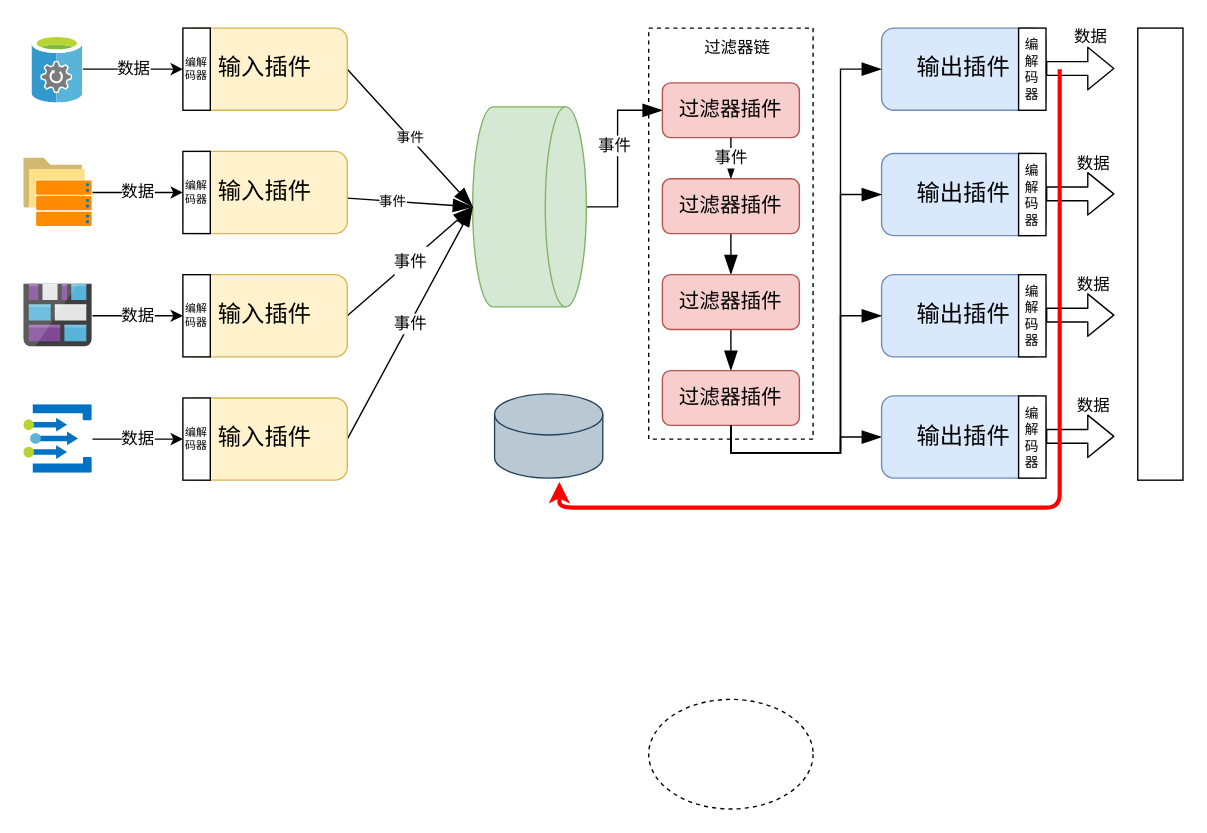
The diagram is 1207 pixels wide and 833 high, and some of its shapes have lost their labels. The centre of each missing label's shape, as x and y in pixels:
"Beats" goes at (x=57, y=315).
"MQ" goes at (x=57, y=438).
"事件队列" goes at (x=528, y=206).
"数据库" goes at (x=57, y=68).
"文件" goes at (x=57, y=192).
"死信队列" goes at (x=548, y=435).
"目的仓库" goes at (x=1159, y=253).
